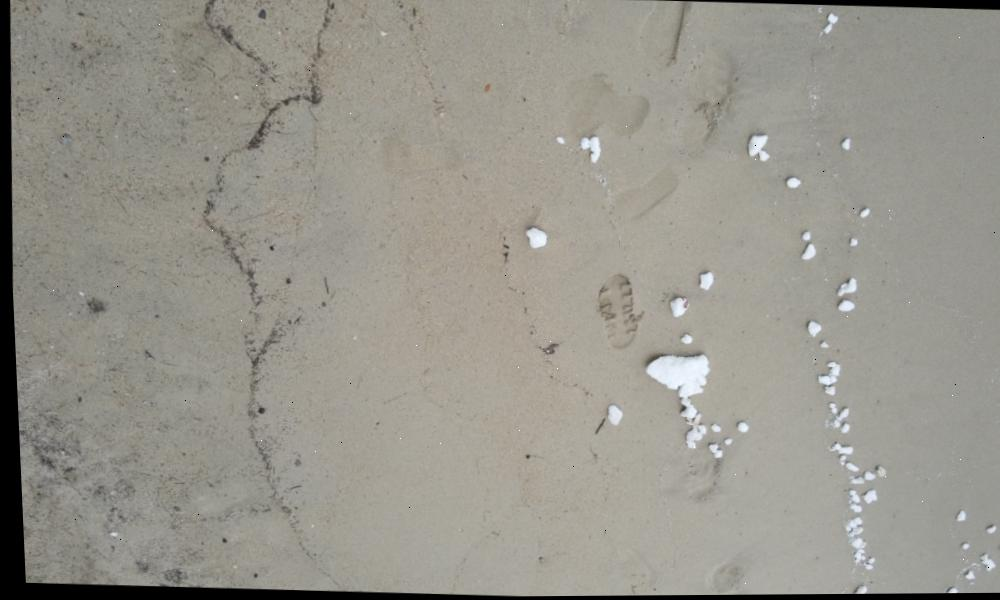styrofoam: (800, 324, 852, 479), (842, 473, 877, 578), (644, 354, 706, 399), (678, 402, 700, 452), (521, 227, 544, 252), (601, 404, 621, 428), (747, 135, 765, 160), (666, 295, 684, 320), (697, 275, 710, 293)
